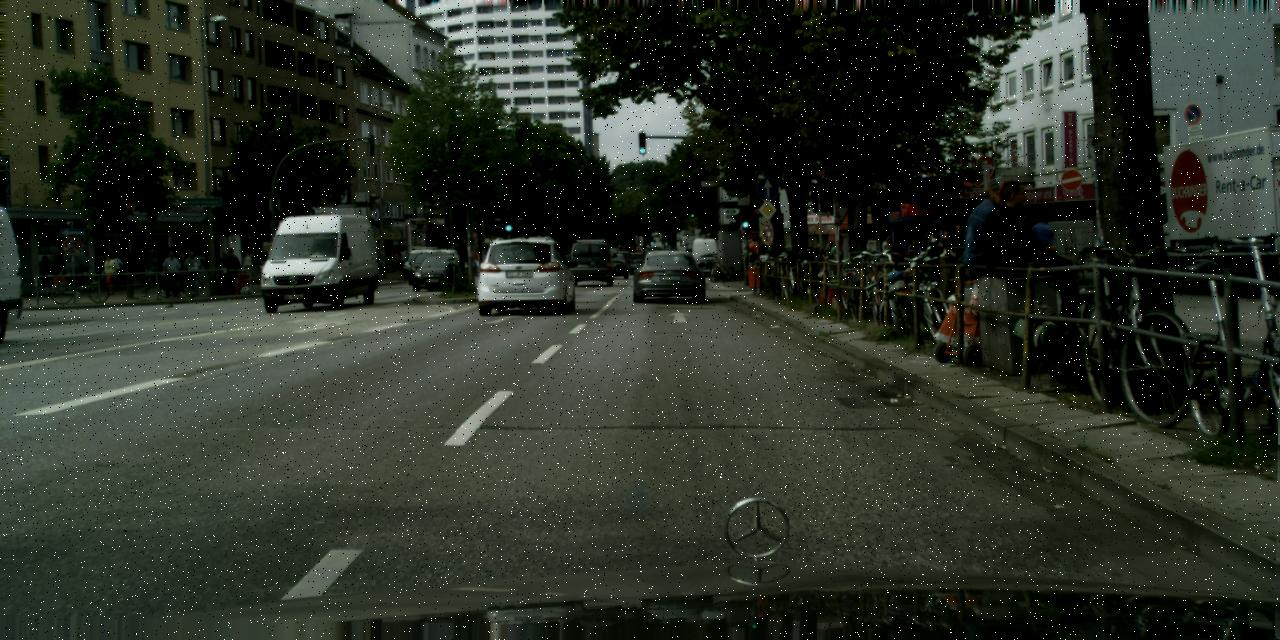ped: (1029, 214, 1054, 276), (221, 246, 240, 293), (162, 250, 180, 296), (184, 251, 201, 296), (948, 224, 965, 266), (51, 252, 68, 294), (100, 252, 116, 294), (108, 252, 123, 289), (882, 235, 896, 270), (908, 239, 920, 270), (940, 230, 951, 262), (244, 249, 256, 277), (178, 249, 194, 270), (252, 248, 262, 278), (242, 252, 252, 276), (749, 238, 757, 266), (824, 241, 836, 259), (891, 247, 908, 259), (399, 248, 407, 268), (815, 242, 822, 260), (392, 250, 399, 268), (218, 251, 226, 266), (927, 234, 936, 244), (471, 249, 476, 264), (891, 244, 900, 248), (758, 264, 758, 266)
